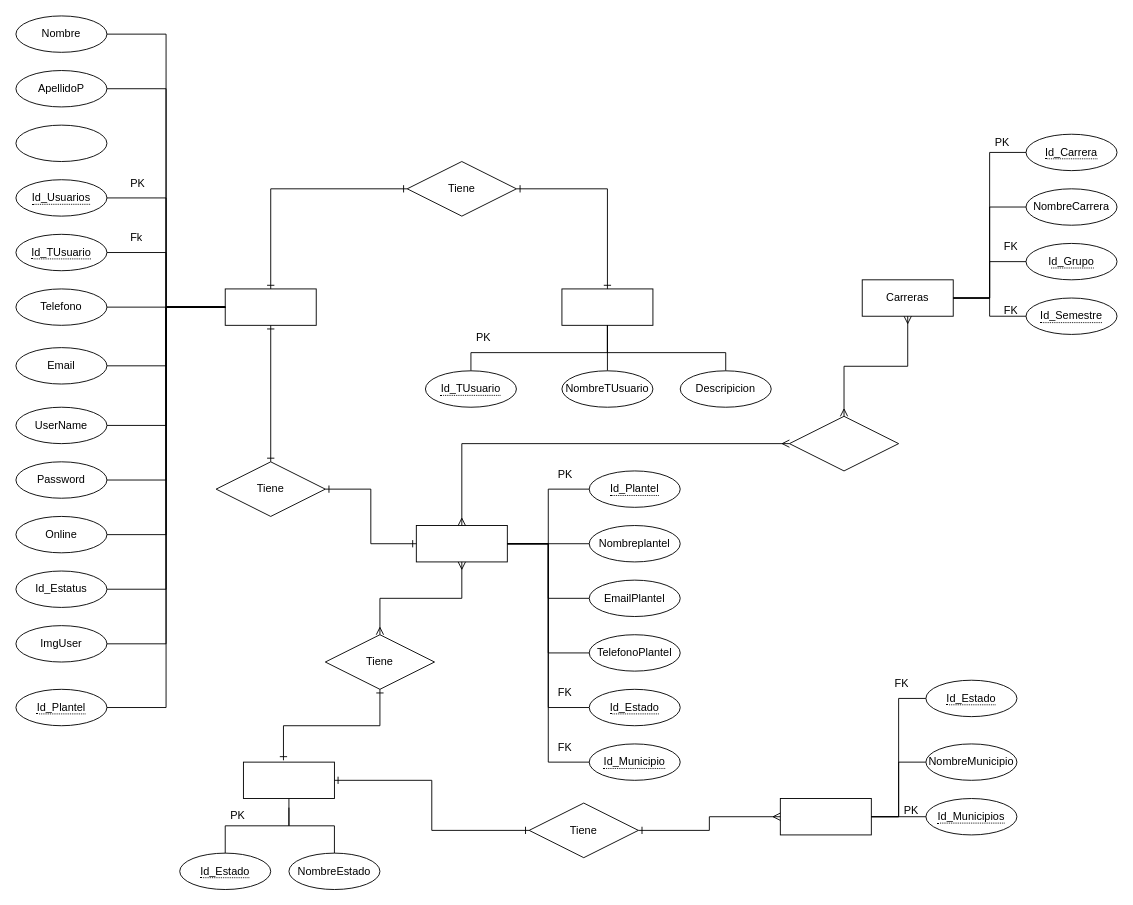
Image size: 1133x905. Some labels were removed from this diagram. The centre of each missing label's shape, as x and y in pixels:
"ApellidoM" goes at point (61, 143).
"Estado" goes at point (288, 780).
"Municipios" goes at point (825, 816).
"Planteles" goes at point (461, 543).
"Tienen" goes at point (844, 443).
"TUsuario" goes at point (607, 306).
"Usuarios" goes at point (270, 306).
